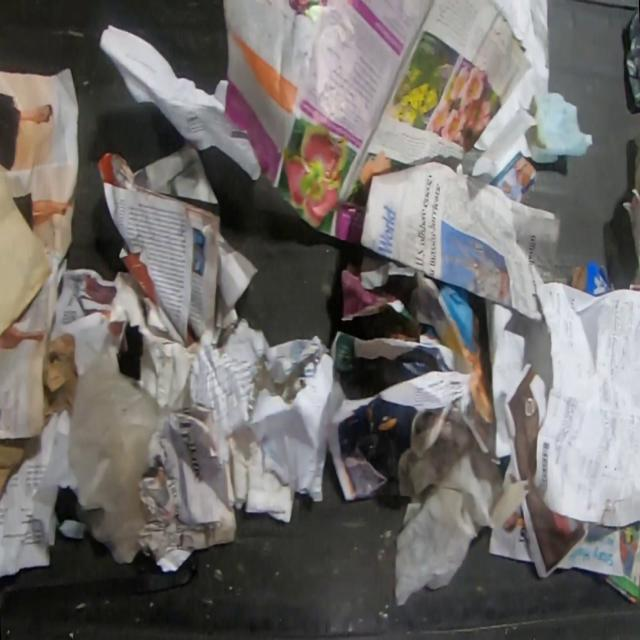cardboard: (42, 332, 78, 419), (569, 258, 616, 296), (624, 7, 640, 109), (0, 441, 28, 499)
soft_plastic: (392, 392, 530, 608), (67, 351, 174, 566), (3, 553, 198, 607)
